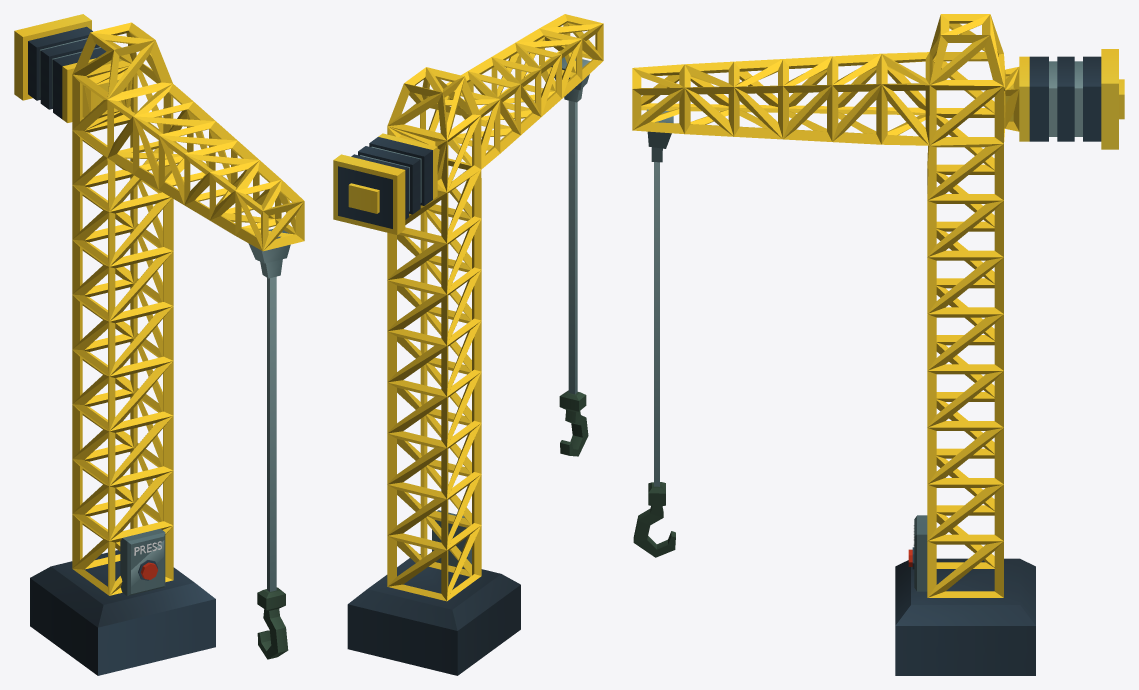
File: Crane.fbx
3 views of the same model, side by side, from view 1: azimuth 30°, elevation 25°; view 2: azimuth 150°, elevation 25°; view 3: azimuth 270°, elevation 25° (orthographic). The views are drawn at different scales.
Parts seen in each view (by area): view 1: Crane.001, Crane, Cube.003, CraneRope, Crane.002, CraneHook, Cube.004; view 2: Crane.001, Crane, Cube.003, CraneRope, CraneHook, Crane.002; view 3: Crane.001, Crane, Cube.003, CraneRope, CraneHook, Crane.002.
Boxes of the visible parts, x1,y1,x2,y2 form: Crane.001: (72,22,304,595); Crane: (30,550,215,675); Cube.003: (14,14,122,122); CraneRope: (267,276,276,591); Crane.002: (120,528,165,596); CraneHook: (257,587,288,659); Cube.004: (248,229,290,278); Crane.001: (387,14,603,601); Crane: (347,554,520,675); Cube.003: (333,133,437,234); CraneRope: (568,100,577,394); CraneHook: (559,390,588,456); Crane.002: (432,510,471,569); Crane.001: (632,14,1019,597); Crane: (895,558,1035,675); Cube.003: (1005,49,1124,149); CraneRope: (654,162,659,486); CraneHook: (633,482,675,557); Crane.002: (912,515,927,591).
Size of the model in its own units: 96.08 by 468 by 336.
